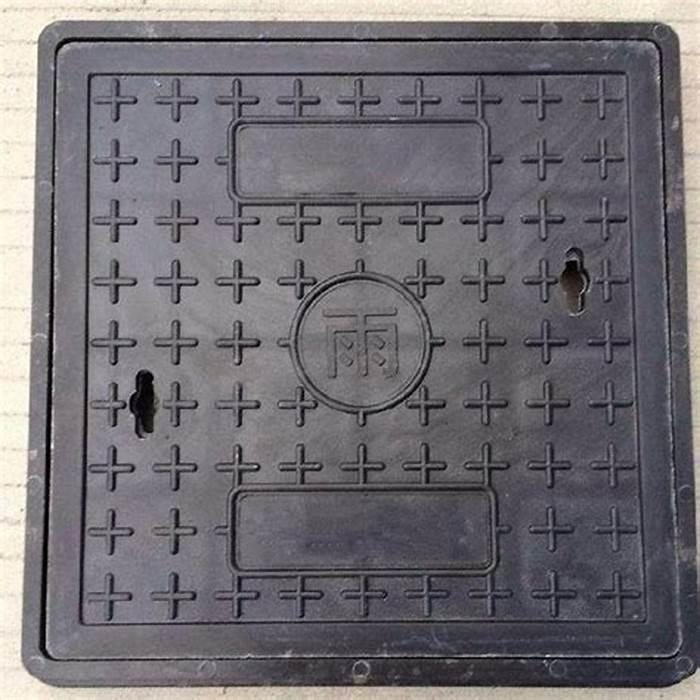wellcover: (29, 14, 693, 673)
